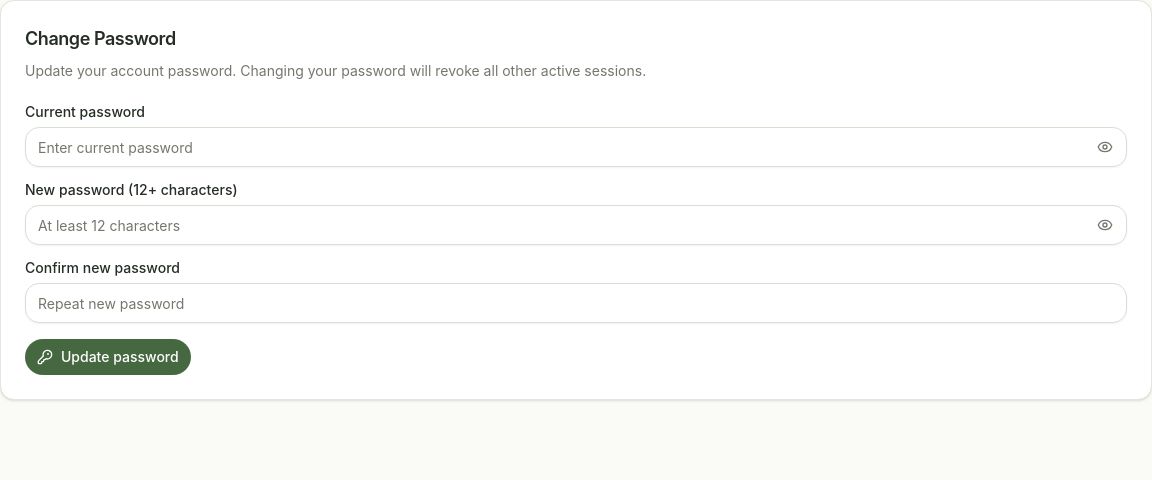
Test: ChangePasswordForm › submits valid password change and displays confirmation banner
Type "correct-old-password-123" into the password field labelled "Current password" at (576, 147), box [25, 127, 1127, 167]
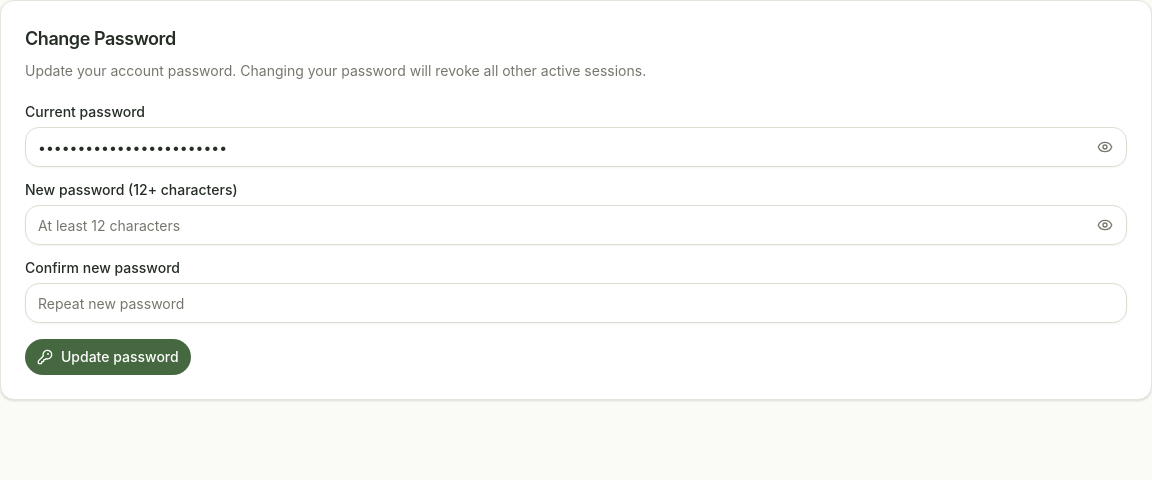
Type "brand-new-super-secure-2026" into the password field labelled "New password (12+ characters)" at (576, 225), box [25, 205, 1127, 245]
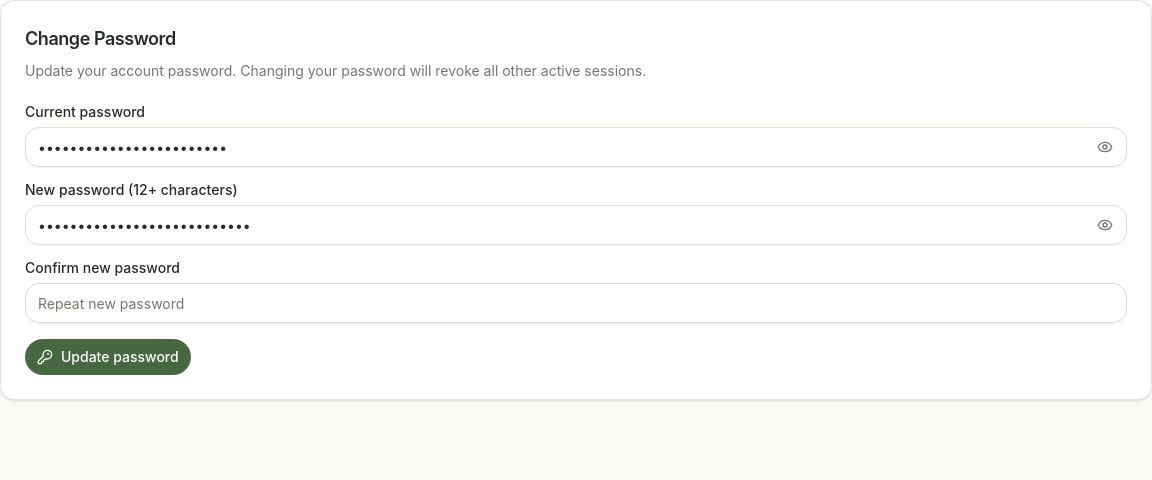
Type "brand-new-super-secure-2026" into the password field labelled "Confirm new password" at (576, 303), box [25, 283, 1127, 323]
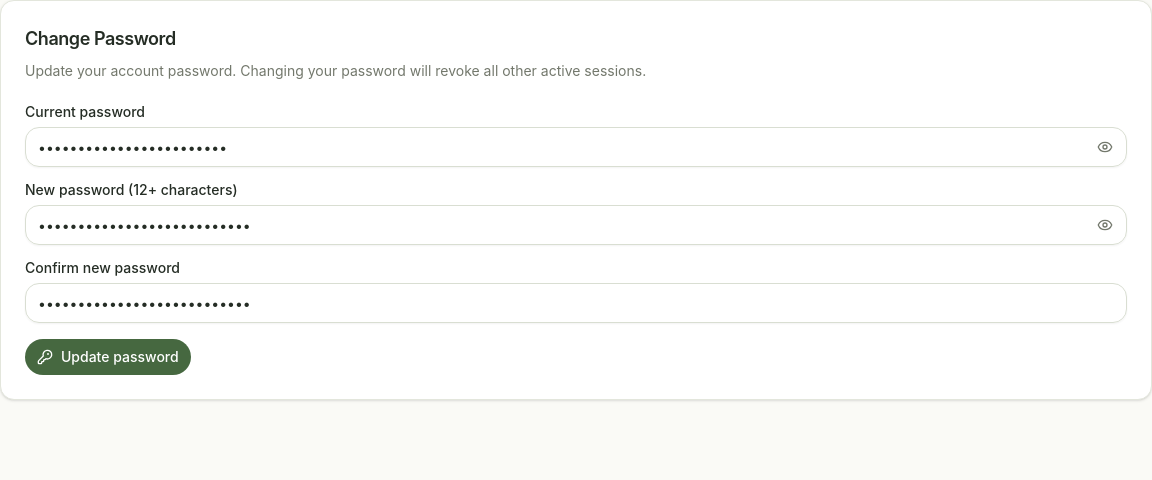
Click the button "Update password" at (108, 357), box [25, 339, 191, 375]
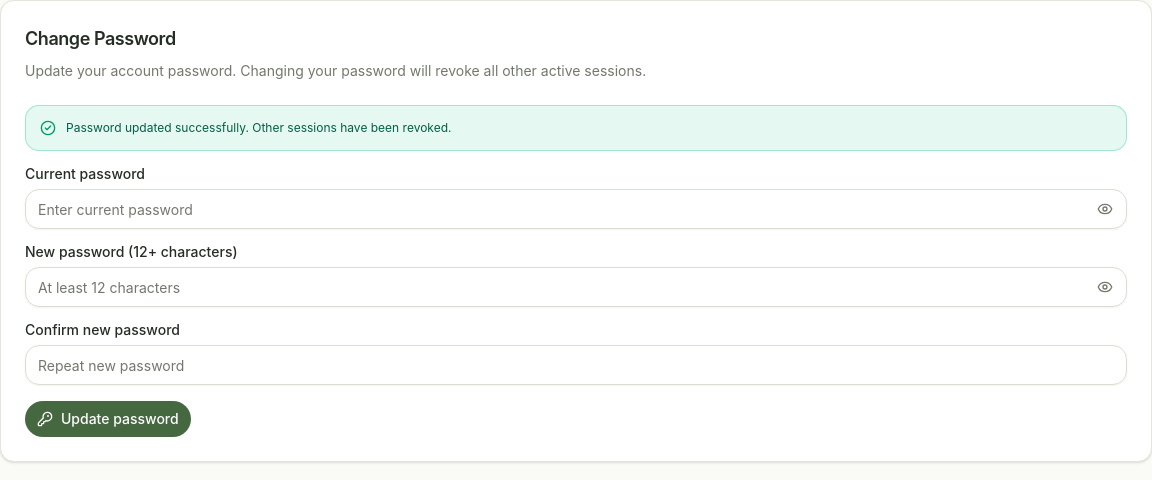
Result: the text "Password updated successfully" is shown at [66, 120, 452, 135]
